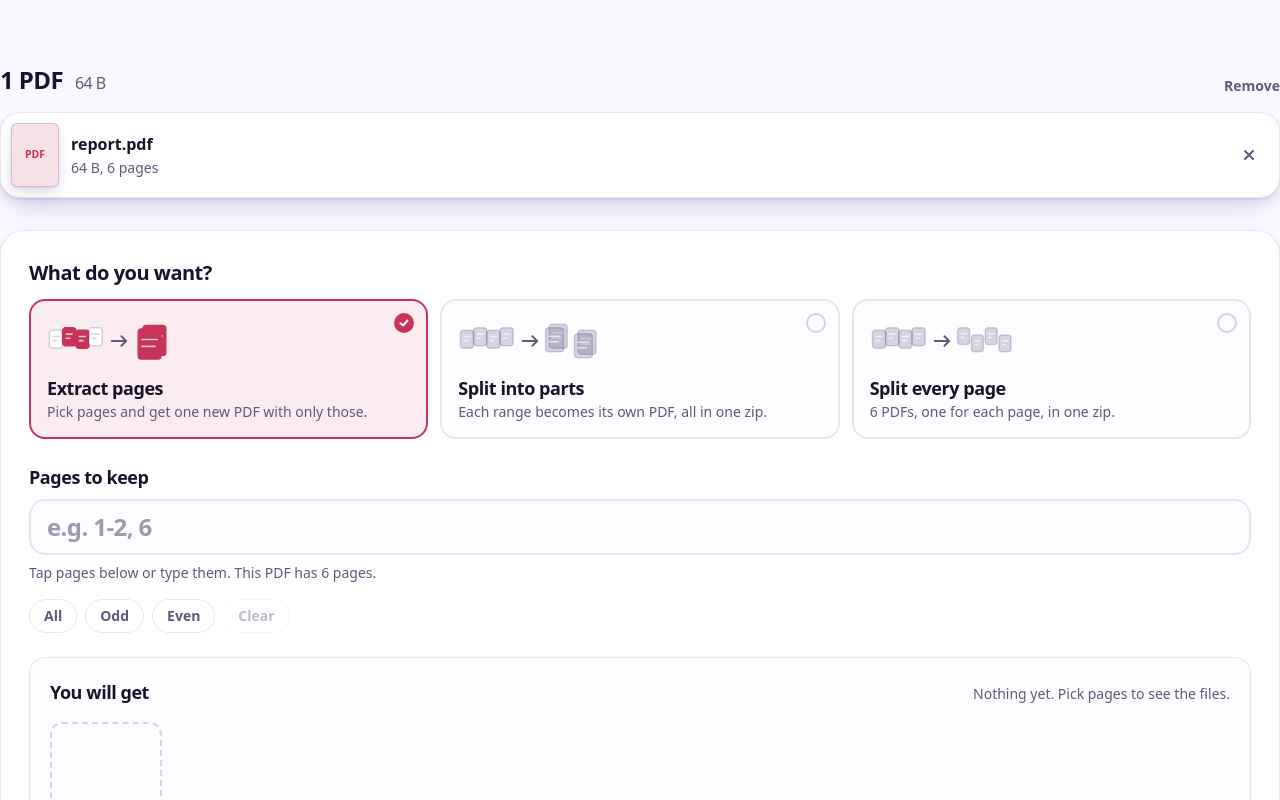
Test: SplitTool › quick picks fill even pages and clear
Earlier steps of the test are not shown.
Click the button "Even".
click(184, 616)  # box 152,599 -> 215,633
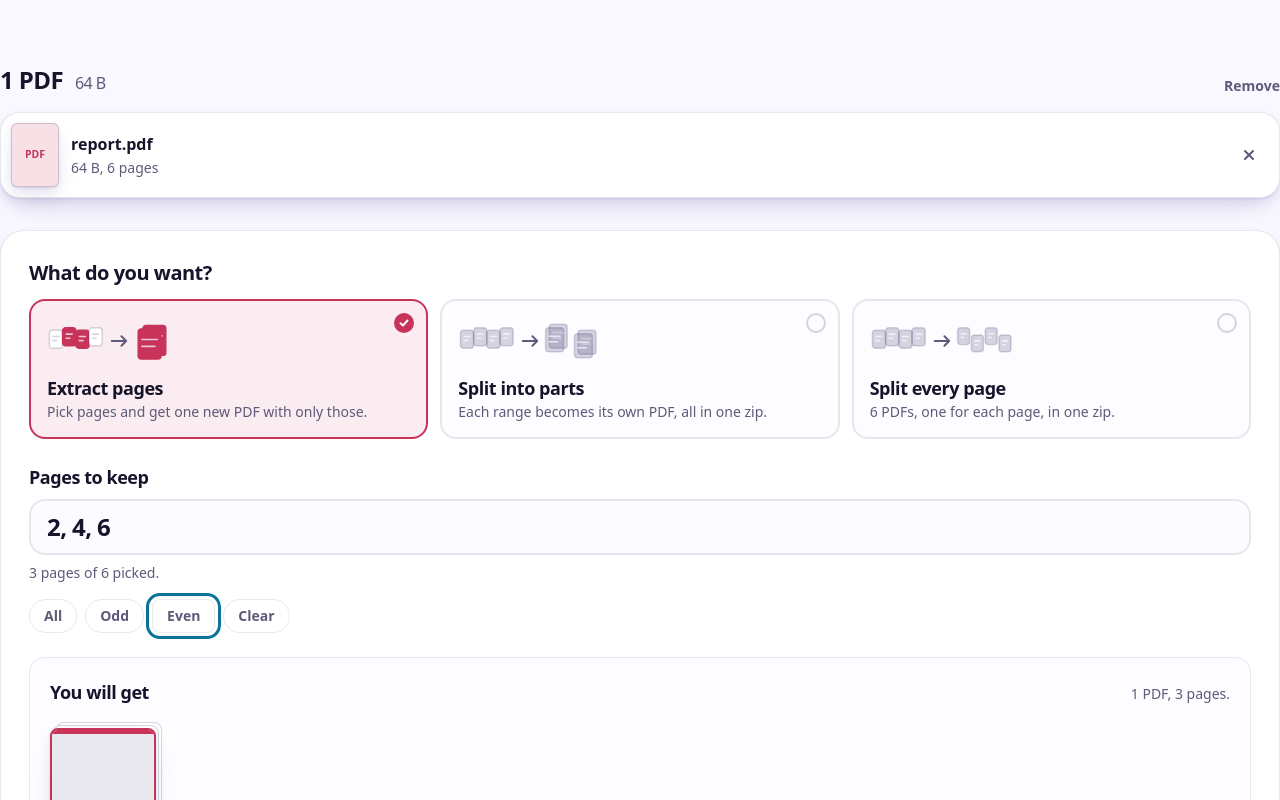
Check: the field labelled "Pages to keep" holds "2, 4, 6", box 29,499 -> 1251,555
Click the button "Clear".
click(257, 616)  # box 223,599 -> 290,633
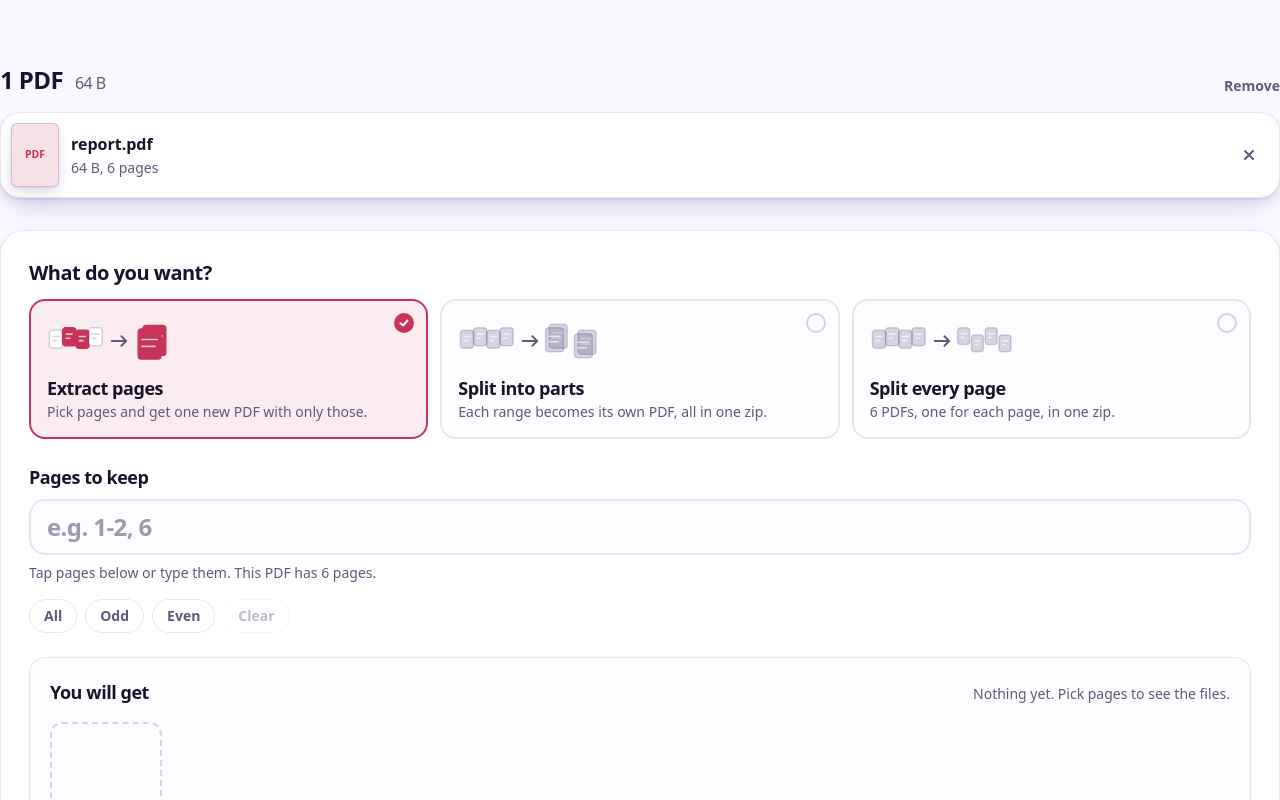
Check: the field labelled "Pages to keep" is empty, box 29,499 -> 1251,555
